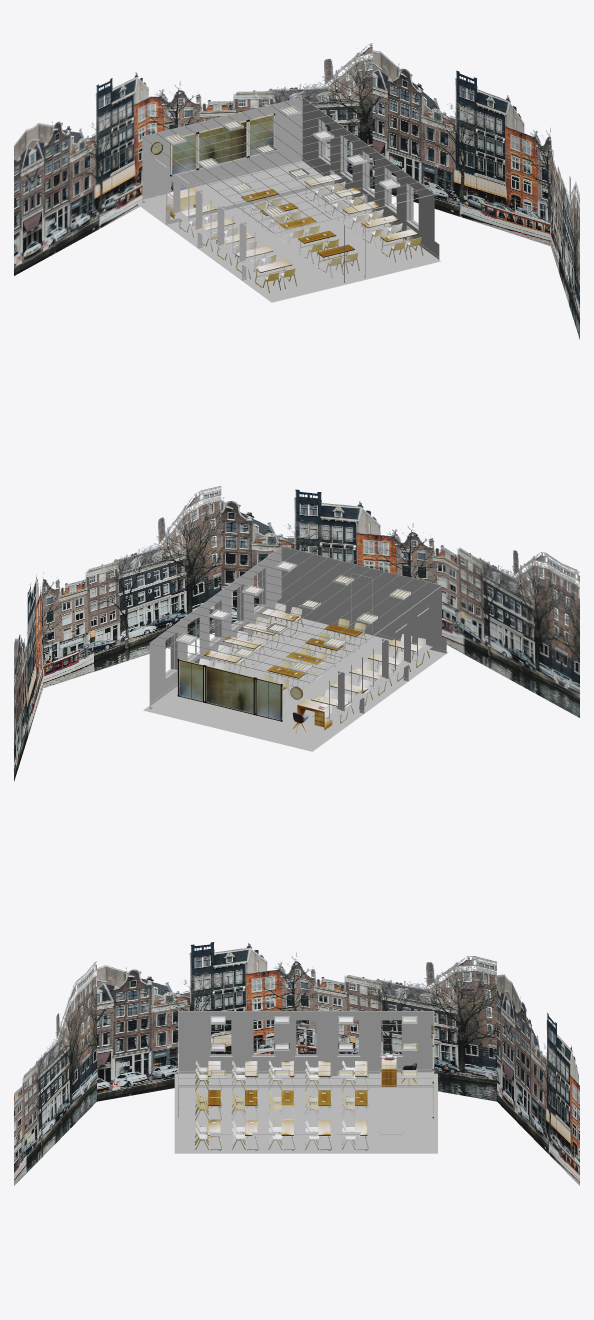
The picture shows the model from 3 angles, top to bottom: view 1: azimuth 30°, elevation 25°; view 2: azimuth 150°, elevation 25°; view 3: azimuth 270°, elevation 25°; orthographic projection. The views are drawn at different scales.
Visible parts, largest first — view 1: environment, walls, desk, props; view 2: environment, walls, props, desk; view 3: environment, walls, desk, props.
Boxes of the visible parts, bbox=[...] form: environment: bbox=[14, 43, 579, 339]; walls: bbox=[136, 97, 440, 302]; desk: bbox=[179, 173, 423, 292]; props: bbox=[150, 106, 400, 240]; environment: bbox=[14, 486, 579, 781]; walls: bbox=[143, 546, 448, 751]; props: bbox=[176, 561, 410, 733]; desk: bbox=[199, 603, 429, 722]; environment: bbox=[14, 942, 579, 1185]; walls: bbox=[174, 1011, 437, 1153]; desk: bbox=[195, 1060, 368, 1150]; props: bbox=[210, 1016, 433, 1131].
Size of what is drawn, in the model's own units: 873 by 287 by 873.
